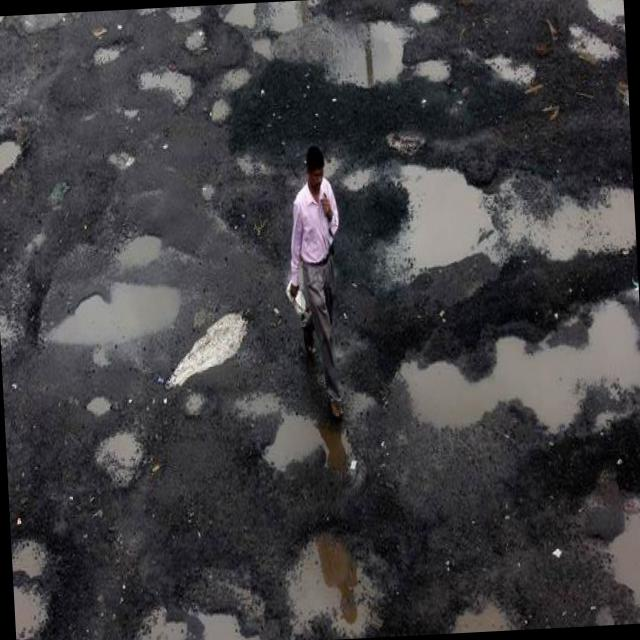Potholes: (328, 96, 640, 320), (380, 308, 640, 467), (215, 0, 461, 112), (36, 241, 192, 367), (271, 523, 391, 640), (240, 376, 364, 488), (159, 306, 270, 419), (578, 473, 640, 617), (74, 388, 158, 492), (130, 576, 262, 640), (10, 517, 65, 640), (474, 22, 542, 113), (555, 11, 622, 93), (435, 576, 525, 634), (139, 61, 202, 110), (0, 123, 46, 187), (96, 126, 150, 180), (163, 5, 218, 57), (208, 94, 248, 154), (83, 30, 141, 70), (576, 0, 625, 35)
